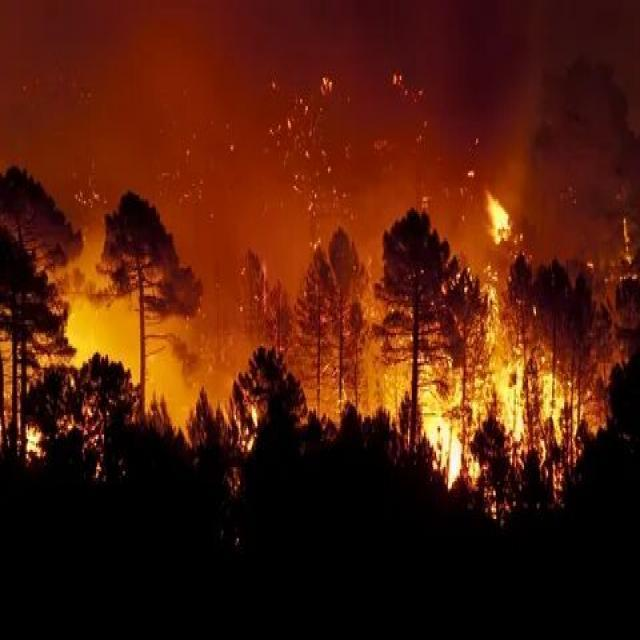Fire: (376, 375, 640, 527), (448, 172, 550, 460)
